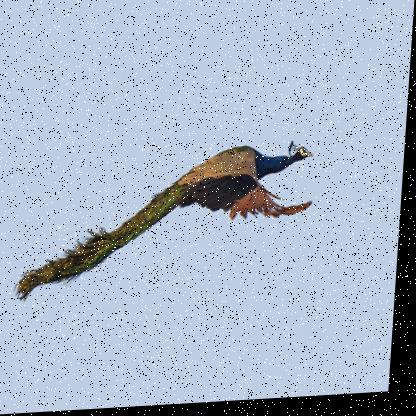Burung: (18, 143, 318, 303)
